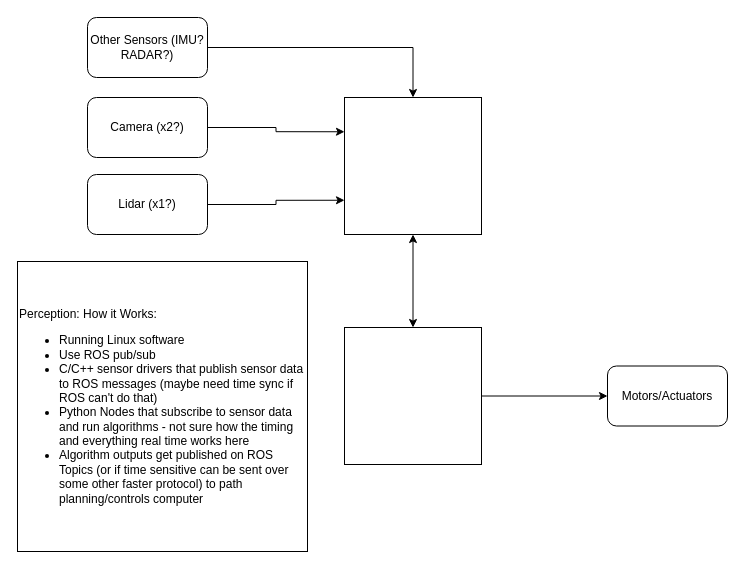
The diagram is 745 pixels wide and 569 high, and some of its shapes have lost their labels. Each missing label, with the box of its shape:
Compute for Path Planning, Mission Planning, Controls/actuators, etc.: (344, 326, 482, 464)
Jetson Compute/GPU for Perception Use: (344, 96, 482, 234)
